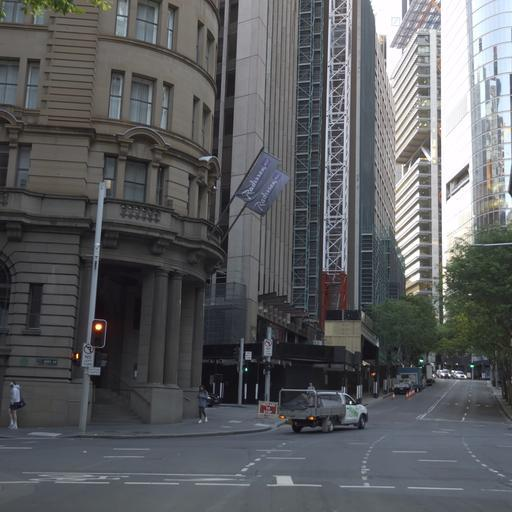Street light: (76, 176, 112, 433), (197, 154, 221, 190), (90, 318, 107, 348), (417, 357, 423, 366)
